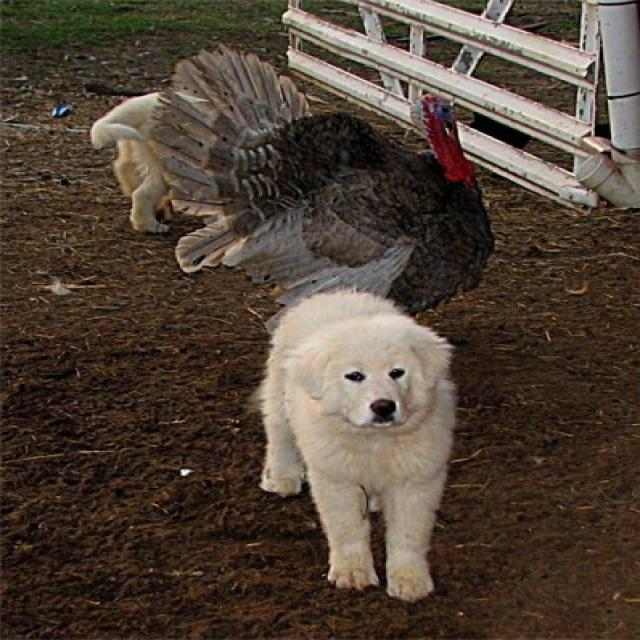dog-great_pyrenees: (238, 284, 465, 609)
